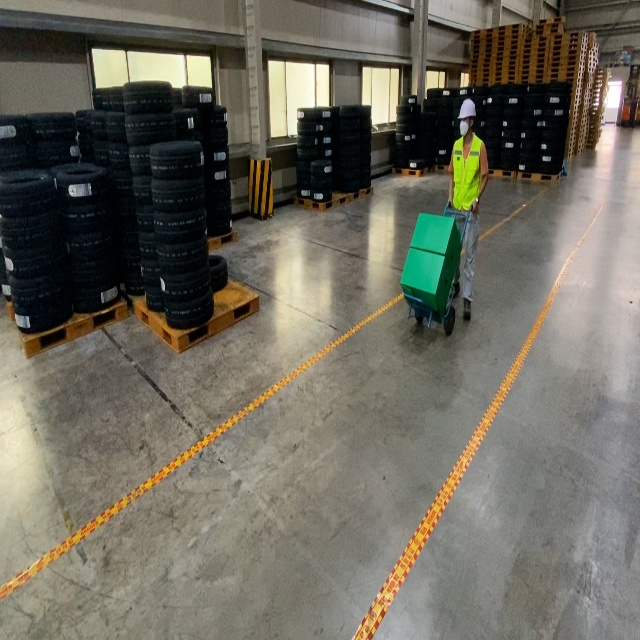Box: (400, 247, 454, 324), (409, 212, 462, 282)
Worker: (448, 100, 488, 319)
